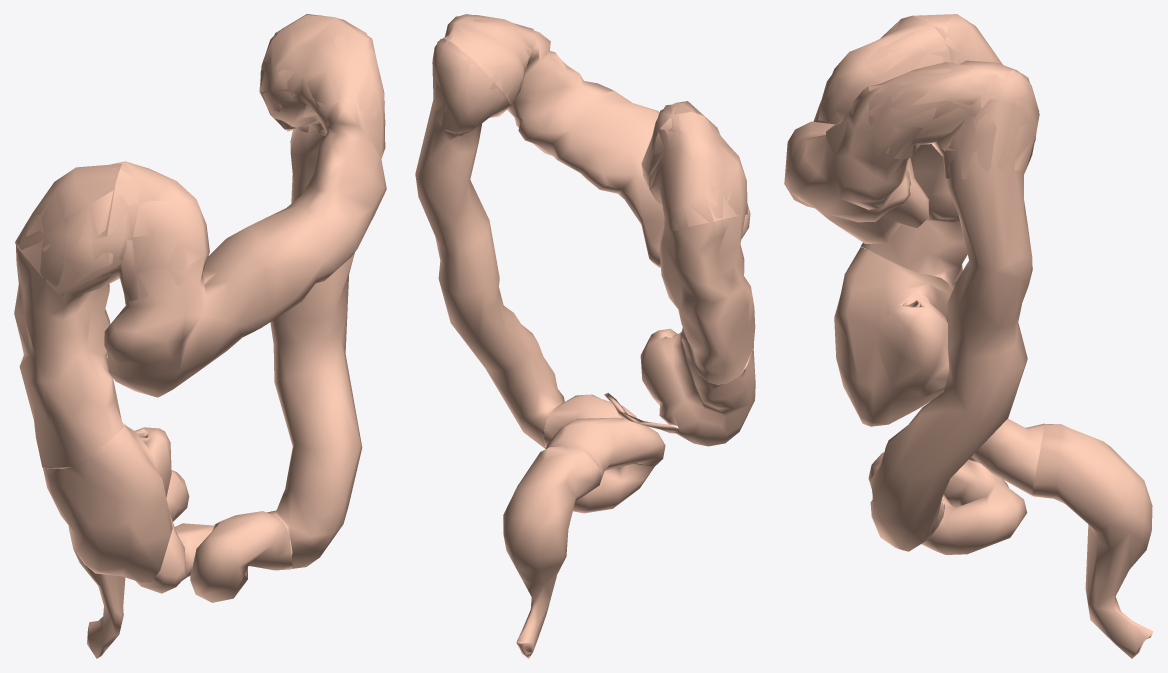
The model's file is sbu_m_intestine_large.glb.
3 renders of one model, left to right at view 1: azimuth 30°, elevation 25°; view 2: azimuth 150°, elevation 25°; view 3: azimuth 270°, elevation 25°, orthographic. The views are drawn at different scales.
Parts seen in each view (by area): view 1: VH_M_transverse_colon, VH_M_ascending_colon, VH_M_descending_colon, VH_M_caecum, VH_M_hepatic_flexure_of_colon, VH_M_sigmoid_colon, VH_M_splenic_flexure_of_colon, VH_M_rectum; view 2: VH_M_descending_colon, VH_M_transverse_colon, VH_M_ascending_colon, VH_M_rectum, VH_M_sigmoid_colon, VH_M_caecum, VH_M_splenic_flexure_of_colon, VH_M_hepatic_flexure_of_colon, VH_M_vermiform_appendix; view 3: VH_M_descending_colon, VH_M_transverse_colon, VH_M_caecum, VH_M_rectum, VH_M_sigmoid_colon, VH_M_splenic_flexure_of_colon, VH_M_ascending_colon, VH_M_hepatic_flexure_of_colon.
Part boxes in pixels (bbox=[...]): VH_M_transverse_colon: bbox=[104, 15, 386, 397]; VH_M_ascending_colon: bbox=[14, 163, 124, 468]; VH_M_descending_colon: bbox=[267, 20, 362, 568]; VH_M_caecum: bbox=[43, 423, 172, 582]; VH_M_hepatic_flexure_of_colon: bbox=[15, 161, 209, 301]; VH_M_sigmoid_colon: bbox=[136, 470, 292, 602]; VH_M_splenic_flexure_of_colon: bbox=[259, 14, 385, 135]; VH_M_rectum: bbox=[73, 548, 125, 658]; VH_M_descending_colon: bbox=[415, 39, 564, 448]; VH_M_transverse_colon: bbox=[444, 15, 750, 267]; VH_M_ascending_colon: bbox=[649, 111, 755, 384]; VH_M_rectum: bbox=[503, 446, 601, 658]; VH_M_sigmoid_colon: bbox=[544, 394, 665, 513]; VH_M_caecum: bbox=[640, 328, 755, 446]; VH_M_splenic_flexure_of_colon: bbox=[432, 14, 536, 136]; VH_M_hepatic_flexure_of_colon: bbox=[642, 101, 747, 230]; VH_M_vermiform_appendix: bbox=[604, 393, 679, 433]; VH_M_descending_colon: bbox=[870, 69, 1039, 551]; VH_M_transverse_colon: bbox=[784, 16, 1014, 243]; VH_M_caecum: bbox=[834, 247, 952, 426]; VH_M_rectum: bbox=[1032, 423, 1153, 658]; VH_M_sigmoid_colon: bbox=[868, 418, 1044, 554]; VH_M_splenic_flexure_of_colon: bbox=[869, 60, 1039, 179]; VH_M_ascending_colon: bbox=[861, 14, 1002, 290]; VH_M_hepatic_flexure_of_colon: bbox=[818, 14, 996, 121].
Size of the model in its own units: 0.2598 by 0.451 by 0.225.
